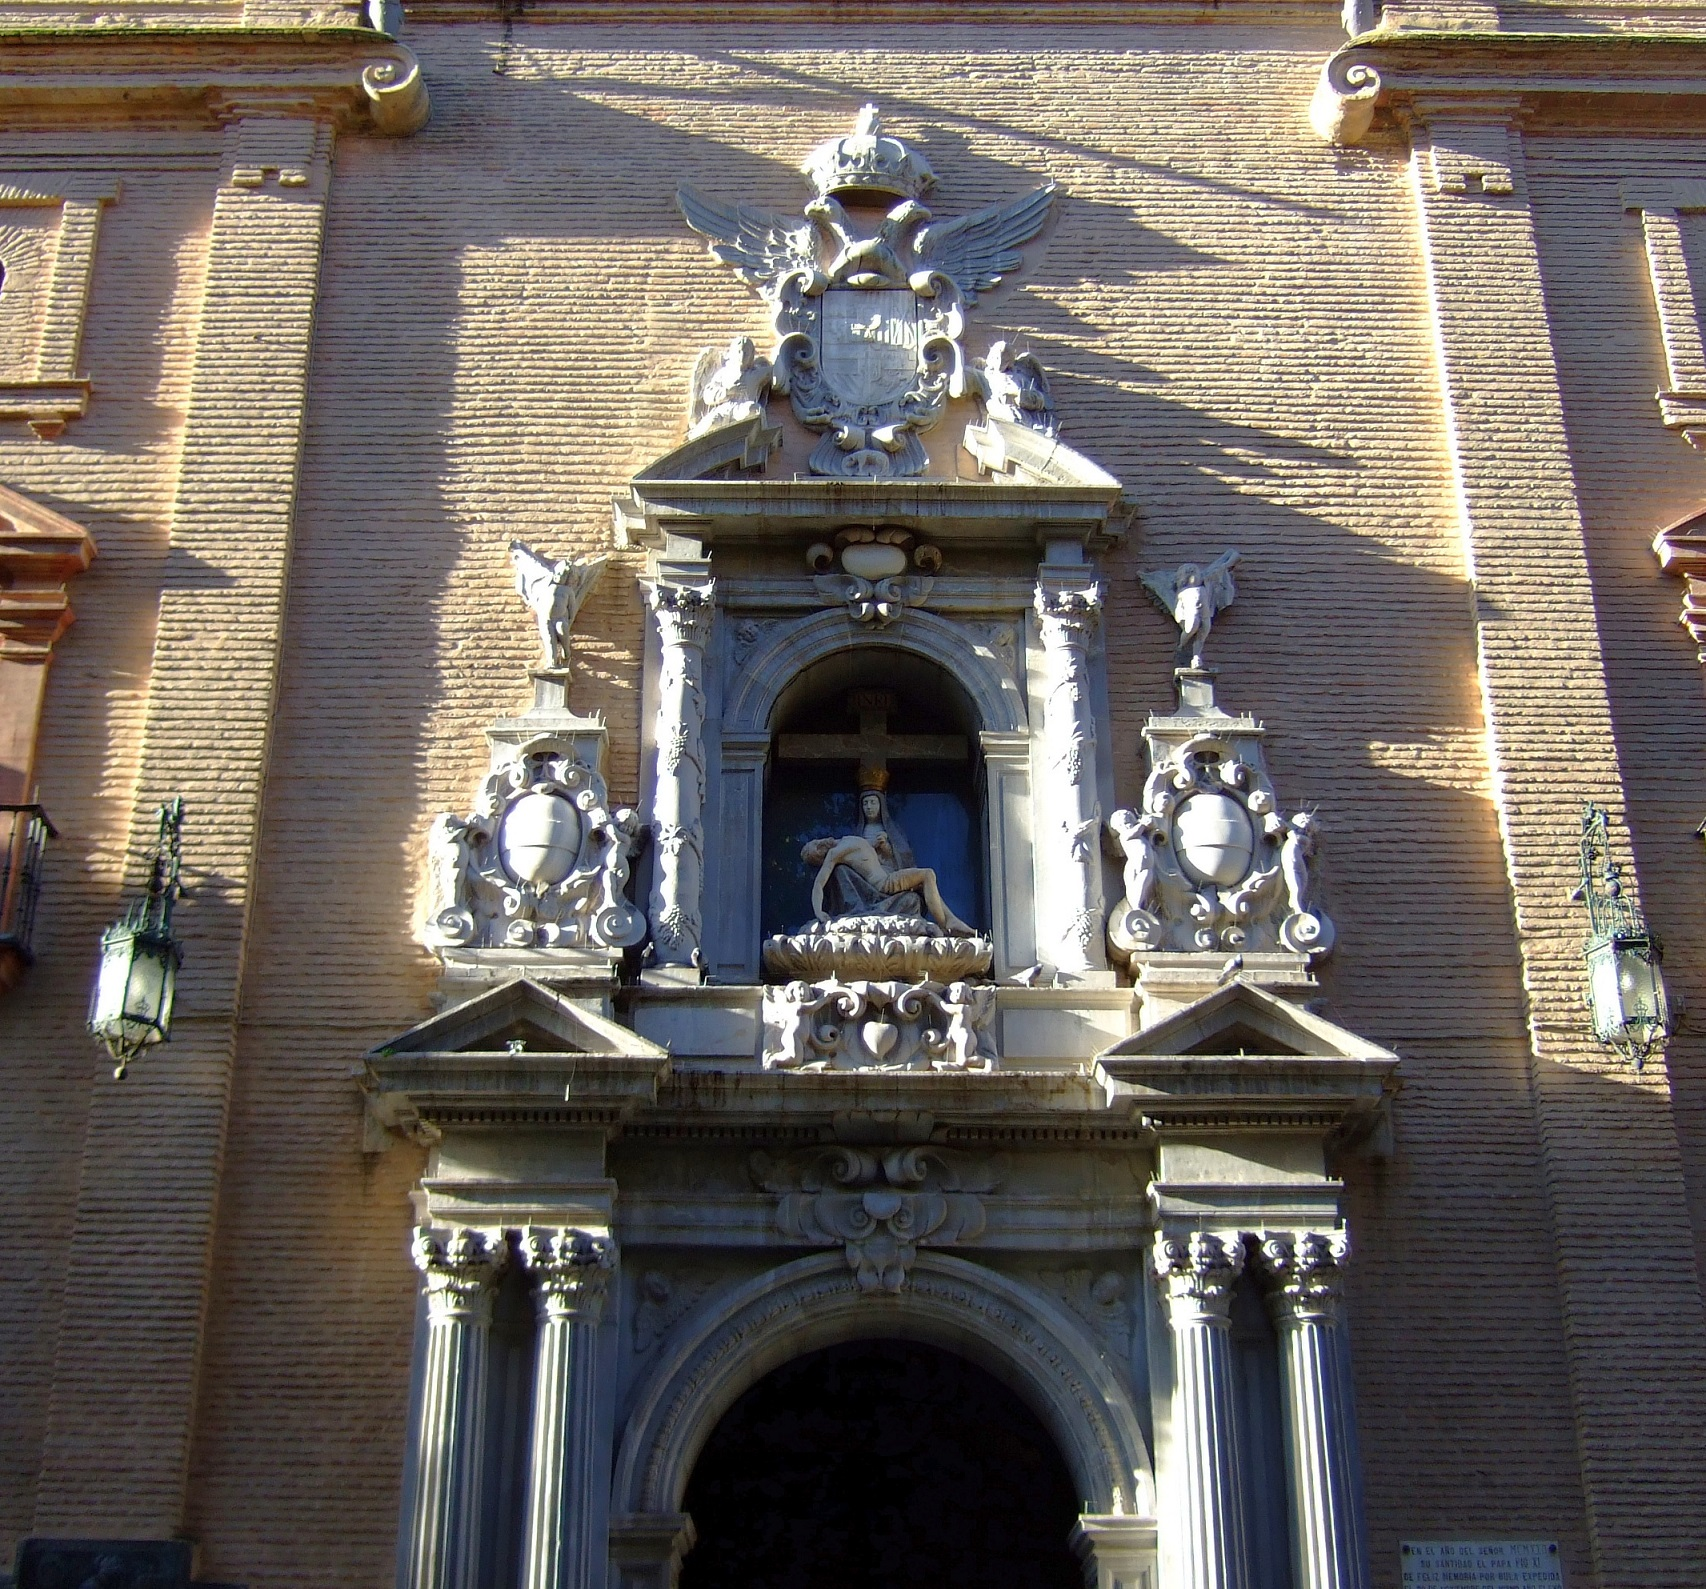arco-medio-punto: (651, 1284, 1120, 1589), (757, 632, 1011, 783)
fronton: (1091, 977, 1409, 1089), (366, 978, 675, 1081)
fronton-partido: (623, 405, 1143, 520)
